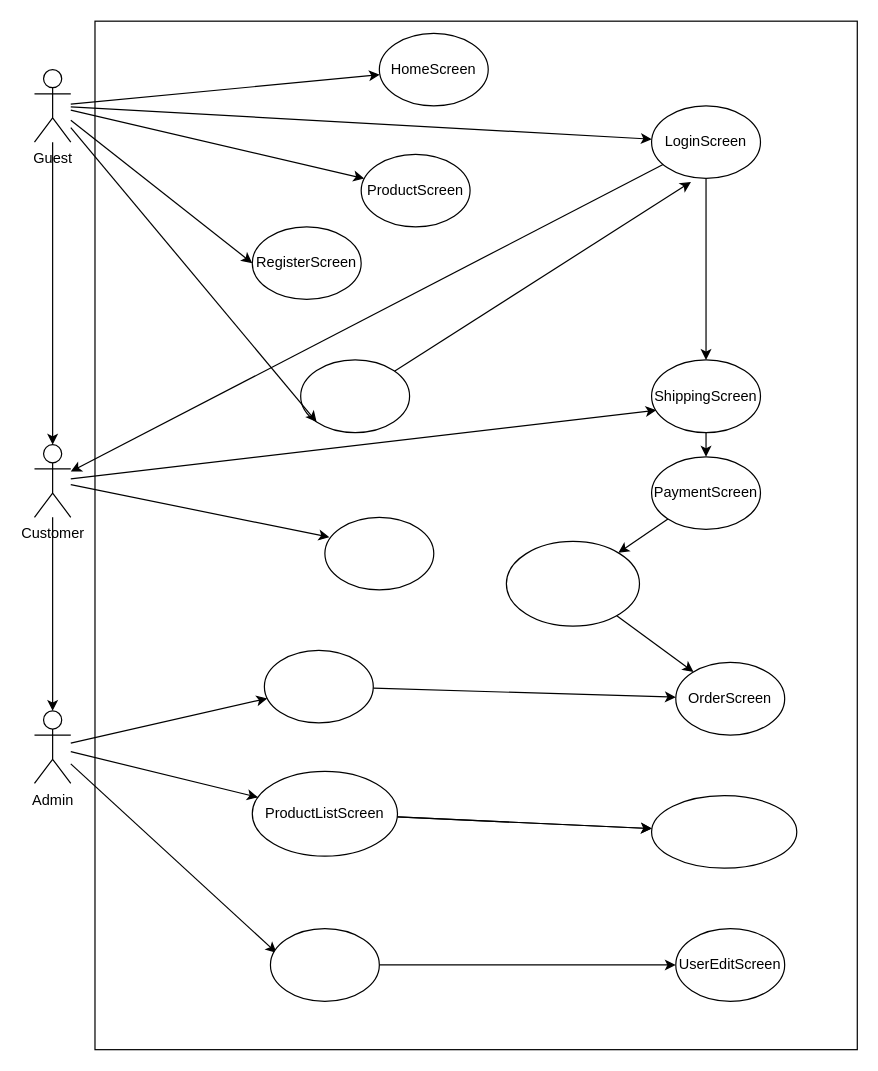
Some shapes in this 878 by 1071 pixel diagram are drawn without their labels. The shapes that lost their labels are listed below. From the top down, each one's centre as x and y in pixels, then its label:
At (x=354, y=396): "CartScreen".
At (x=379, y=553): "ProfileScreen".
At (x=572, y=583): "PlaceOrderScreen".
At (x=318, y=686): "OrderListScreen".
At (x=723, y=831): "ProductEditScreen".
At (x=324, y=964): "UserListScreen".
